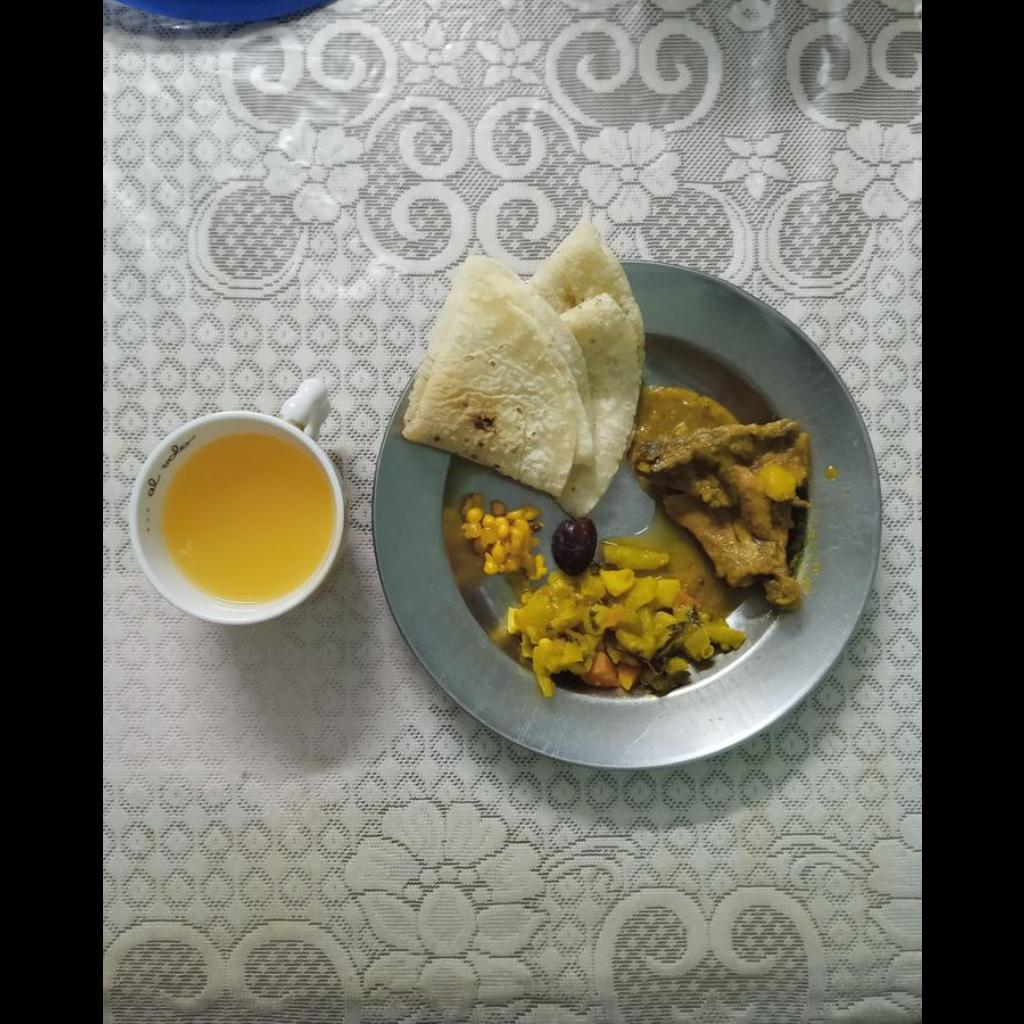burinda: (458, 494, 546, 579)
chicken: (642, 386, 810, 605)
dates: (550, 517, 596, 576)
juice: (162, 436, 331, 606)
ruti: (404, 223, 649, 511)
vegetable: (494, 547, 736, 692)
